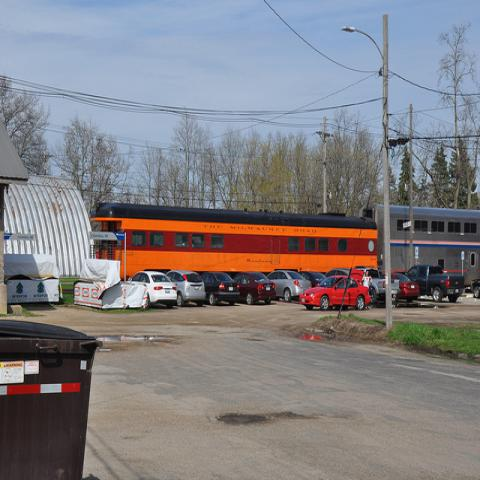bus: (368, 204, 479, 285)
car: (298, 274, 372, 311), (126, 271, 177, 310), (234, 270, 277, 306), (165, 270, 206, 307), (266, 270, 313, 302), (199, 272, 240, 306), (392, 272, 420, 301), (298, 272, 327, 286), (348, 266, 365, 284), (324, 268, 351, 278), (469, 278, 479, 298)
truck: (404, 265, 466, 304), (355, 268, 401, 306)
